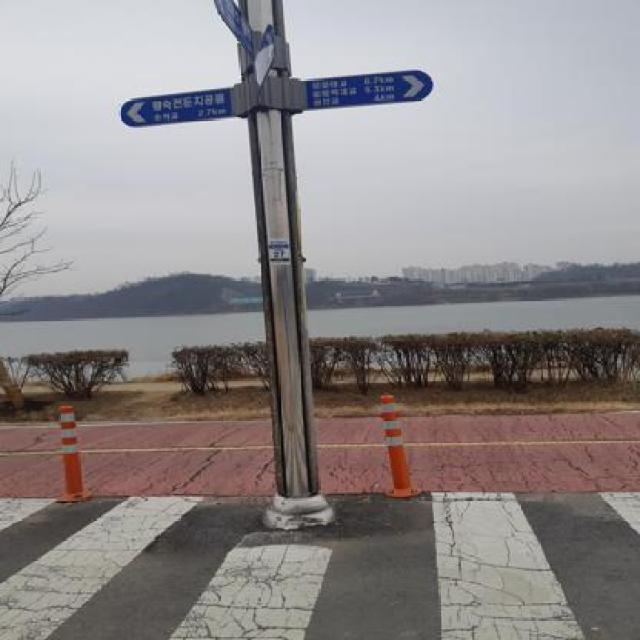pole: (214, 0, 346, 534), (46, 404, 92, 511)
